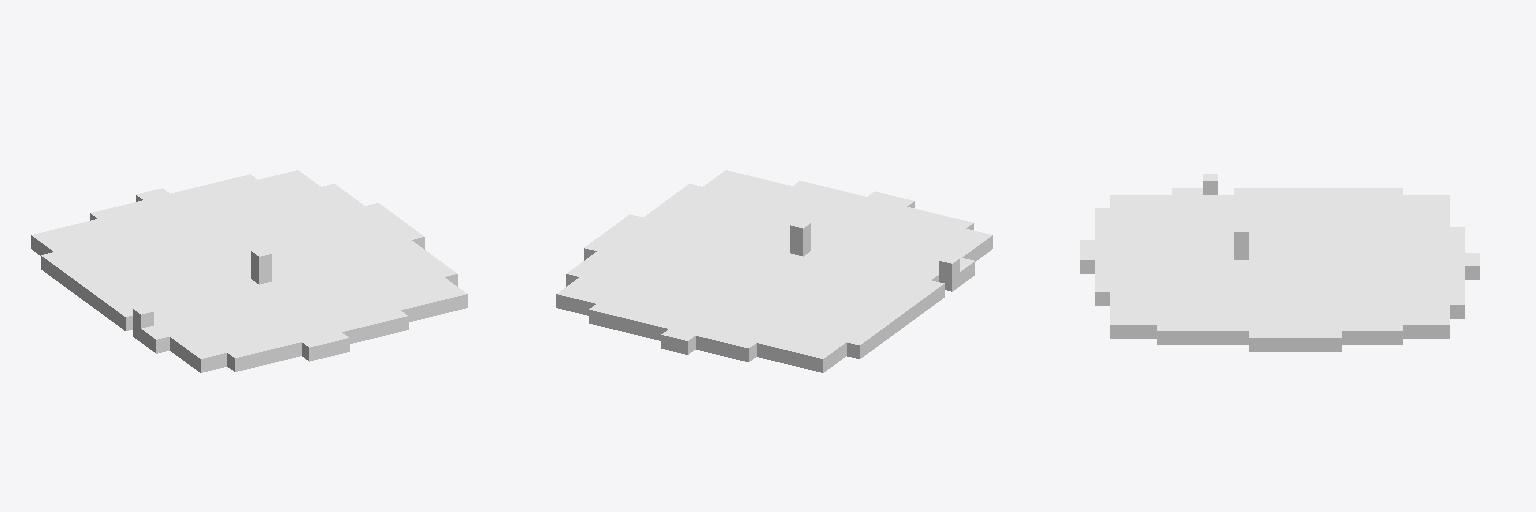
File: NeutralArt3.obj
3 views of the same model, side by side, from view 1: azimuth 30°, elevation 25°; view 2: azimuth 150°, elevation 25°; view 3: azimuth 270°, elevation 25° (orthographic).
Visible parts, largest first — view 1: object 1; view 2: object 1; view 3: object 1.
Boxes of the visible parts, x1=… form: object 1: x1=31, y1=170, x2=467, y2=372; object 1: x1=556, y1=170, x2=992, y2=372; object 1: x1=1080, y1=174, x2=1479, y2=351.
Bounding box in the file's own units: 2.3 × 0.3 × 2.6.